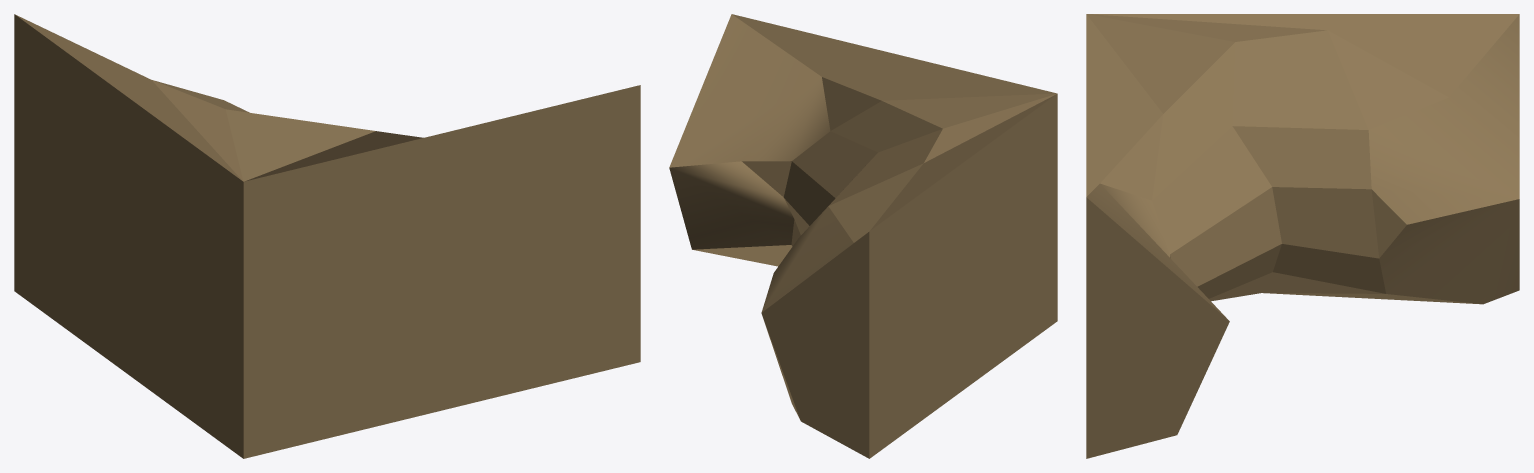
The model's file is LightRockEdgeSmallInternalCurve3.FBX.
3 renders of one model, left to right at view 1: azimuth 30°, elevation 25°; view 2: azimuth 150°, elevation 25°; view 3: azimuth 270°, elevation 25°, orthographic. The views are drawn at different scales.
Parts seen in each view (by area): view 1: LightNaturalRockEdgeSmallInternalCurve_1; view 2: LightNaturalRockEdgeSmallInternalCurve_1; view 3: LightNaturalRockEdgeSmallInternalCurve_1.
Boxes of the visible parts, <box> form: LightNaturalRockEdgeSmallInternalCurve_1: <box>14,14,640,458</box>; LightNaturalRockEdgeSmallInternalCurve_1: <box>669,14,1057,458</box>; LightNaturalRockEdgeSmallInternalCurve_1: <box>1086,14,1519,458</box>.
Size of the model in its own units: 7623 by 5080 by 7620.
